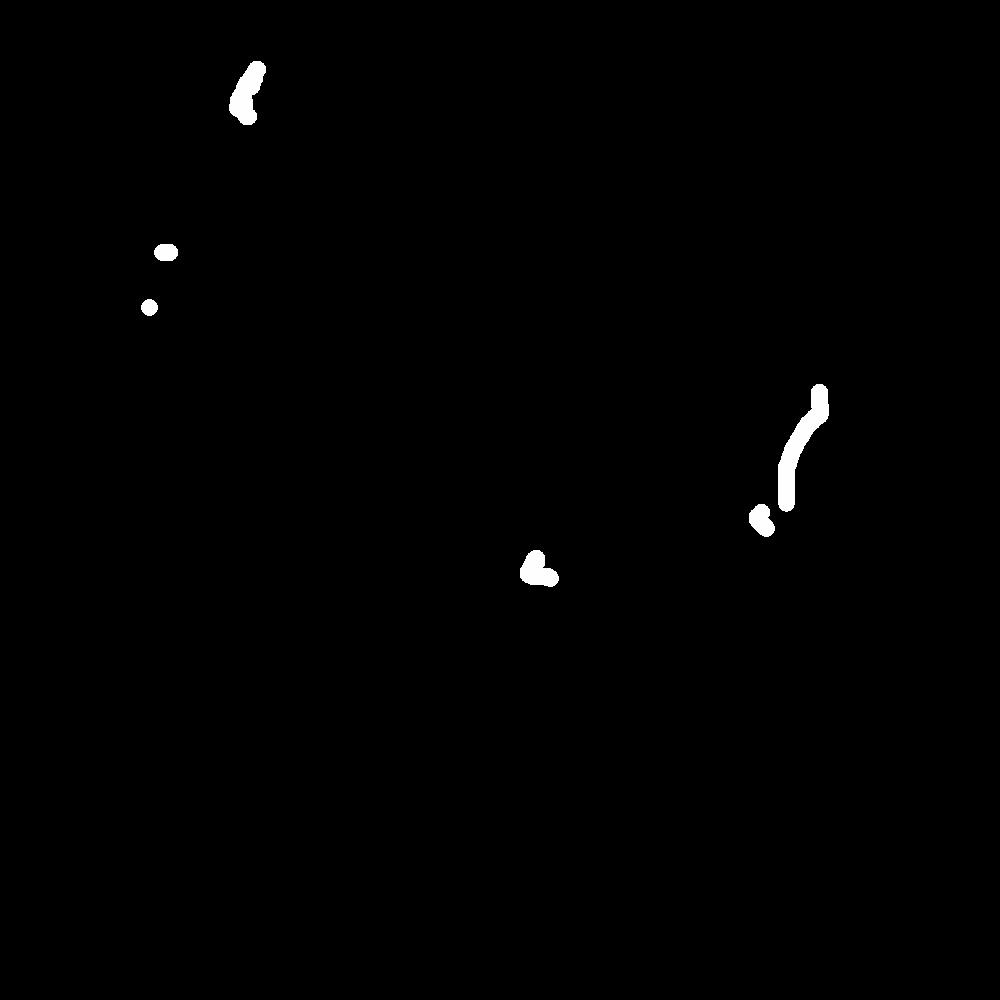illegal: (750, 380, 831, 545), (520, 514, 644, 599), (218, 53, 269, 228), (137, 239, 179, 329)
